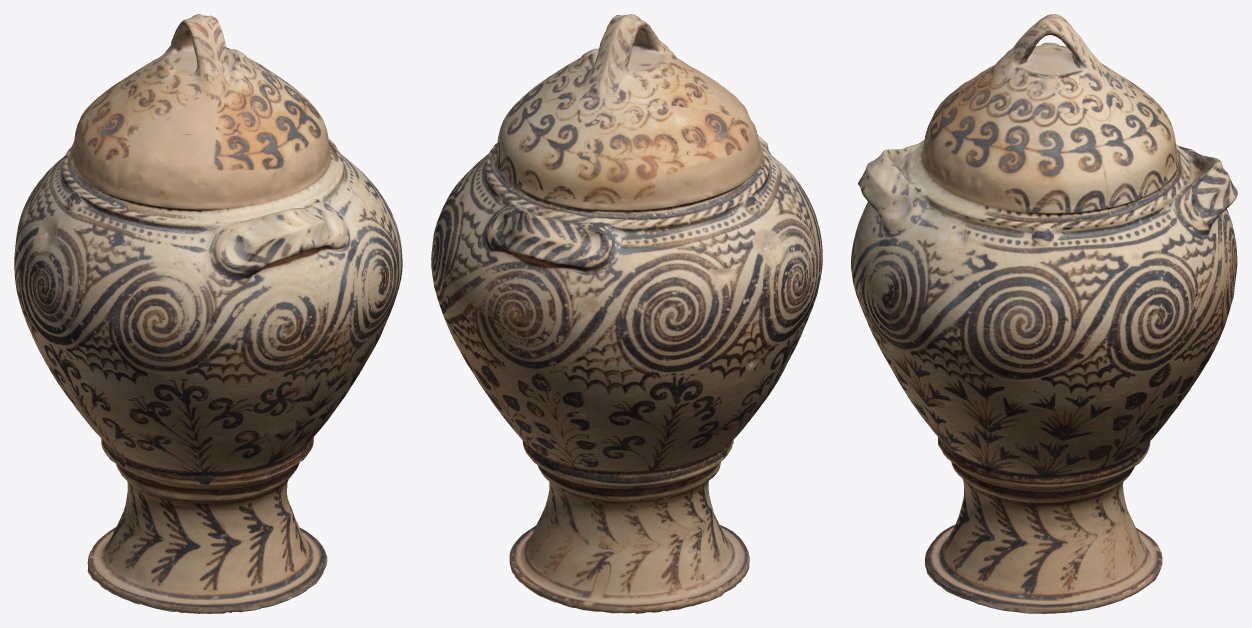
The model's file is Aggeio.fbx.
3 renders of one model, left to right at view 1: azimuth 30°, elevation 25°; view 2: azimuth 150°, elevation 25°; view 3: azimuth 270°, elevation 25°, orthographic.
Parts seen in each view (by area): view 1: Aggeio-Sony; view 2: Aggeio-Sony; view 3: Aggeio-Sony.
Part boxes in pixels (left/top/right/bottom): Aggeio-Sony: left=14, top=14, right=402, bottom=613; Aggeio-Sony: left=431, top=14, right=822, bottom=613; Aggeio-Sony: left=851, top=14, right=1237, bottom=613.
Bounding box in the file's own units: 26.34 × 26.27 × 40.92.
2 materials, 1 textured.
